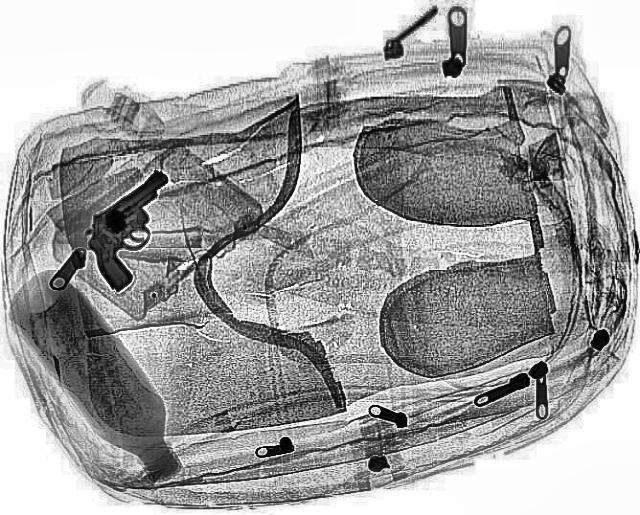Gun: (60, 160, 192, 296)
